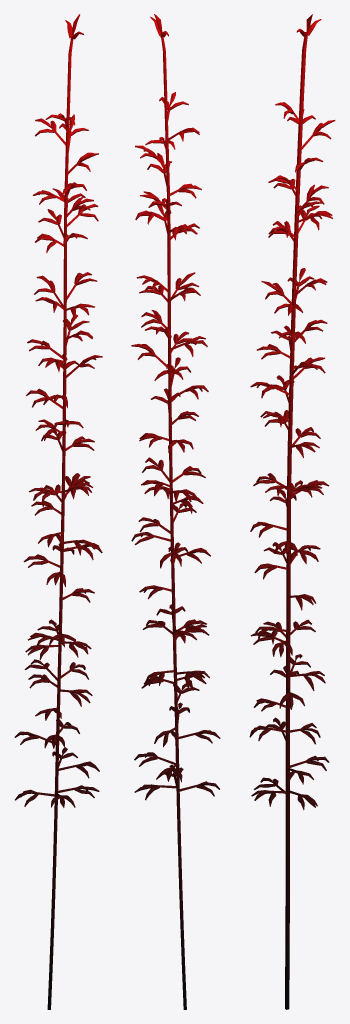
The model's file is TreeBambooTall09.fbx.
3 views of the same model, side by side, from view 1: azimuth 30°, elevation 25°; view 2: azimuth 210°, elevation 25°; view 3: azimuth 330°, elevation 25° (orthographic).
Visible parts, largest first — view 1: TreeBambooTall09_LOD0; view 2: TreeBambooTall09_LOD0; view 3: TreeBambooTall09_LOD0.
Boxes of the visible parts, <box> form: TreeBambooTall09_LOD0: <box>14,14,102,1009</box>; TreeBambooTall09_LOD0: <box>131,14,220,1009</box>; TreeBambooTall09_LOD0: <box>249,14,335,1009</box>.
Size of what is drawn, in the model's own units: 125 by 1519 by 114.
